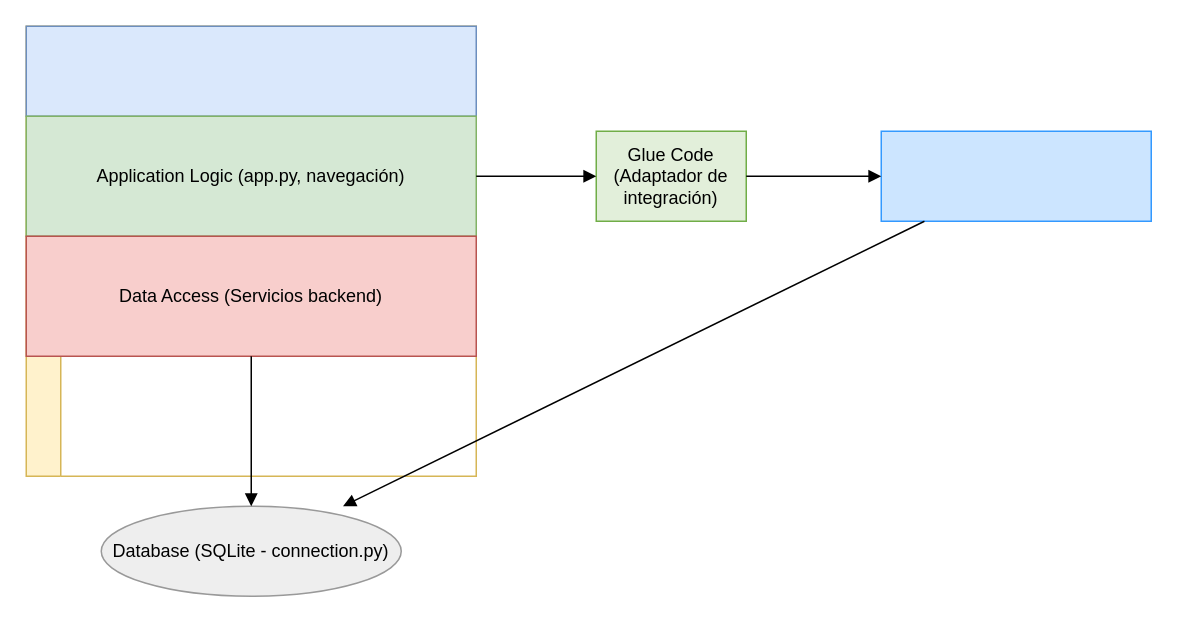
Image size: 1178x623. Some labels were removed from this diagram. Here are the shapes that lost their labels. From the top down, the centre of each, then its label:
(250,70): UI (Vistas PyQt5)
(1015,175): New Service (Ej. Cifrado, Backup)
